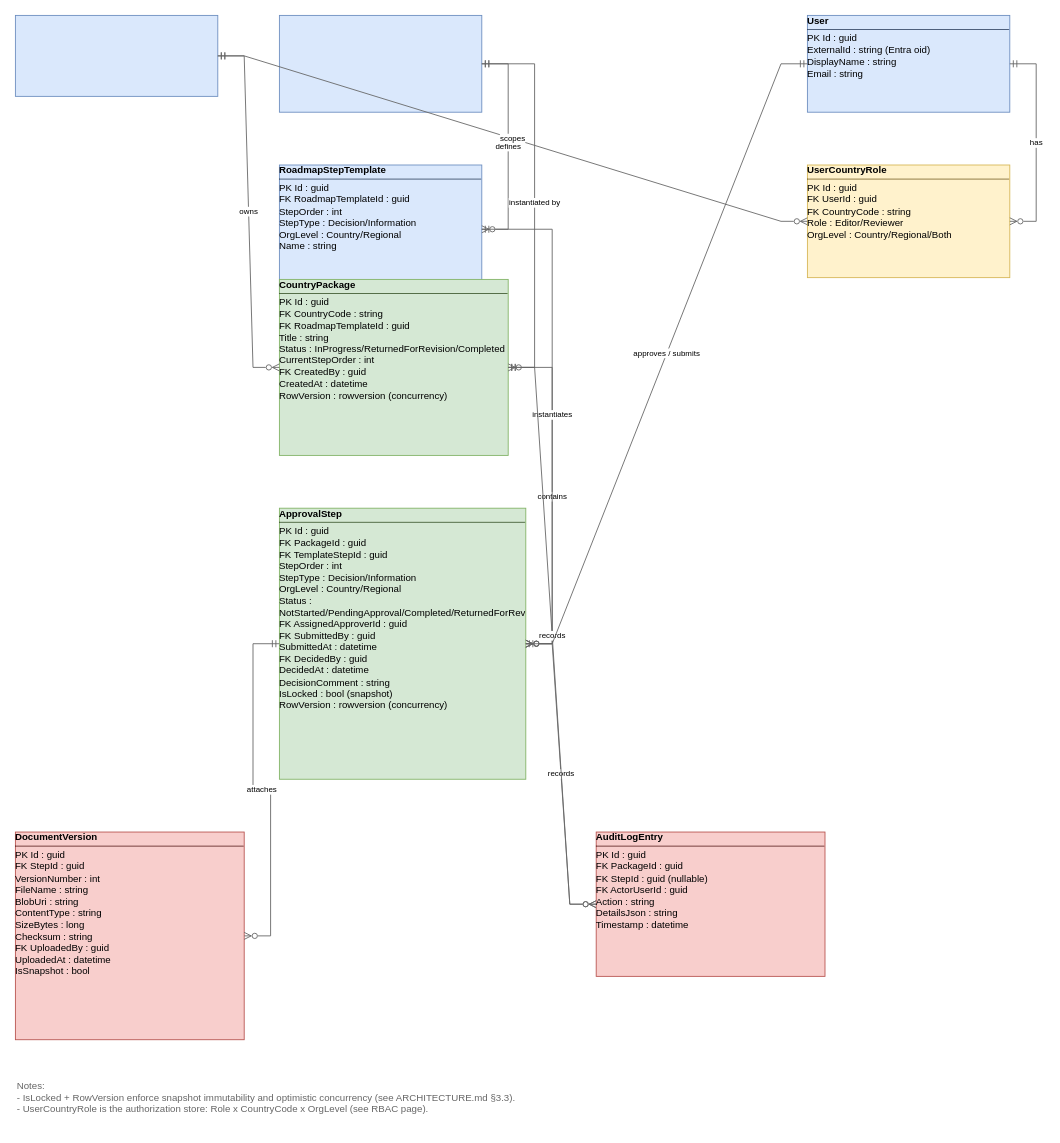
The diagram is 1060 pixels wide and 1143 high, and some of its shapes have lost their labels. The shapes that lost their labels are listed below. From the top down, each one's centre as x and y in pixels, then its label:
pixel 116 55: Country PK Code : string Name : string Region : string
pixel 380 63: RoadmapTemplate PK Id : guid Name : string Version : int IsActive : bool
